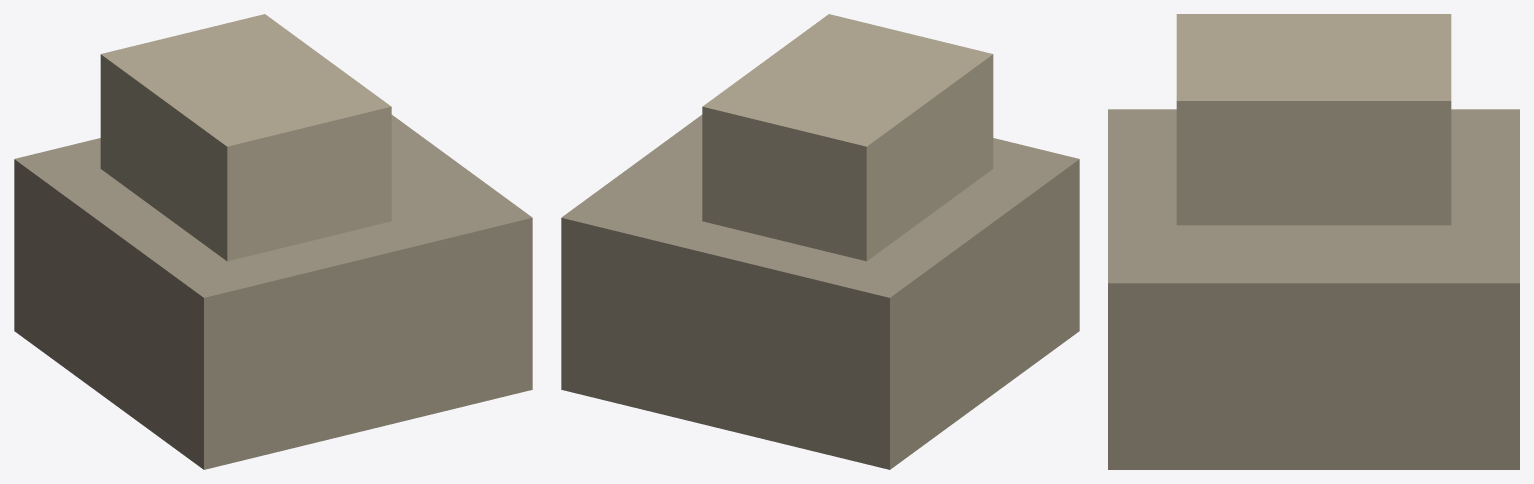
File: gran_taller_mamposteria_01.glb
3 renders of one model, left to right at view 1: azimuth 30°, elevation 25°; view 2: azimuth 150°, elevation 25°; view 3: azimuth 270°, elevation 25°, orthographic. The views are drawn at different scales.
Visible parts, largest first — view 1: gran_taller_mamposteria; view 2: gran_taller_mamposteria; view 3: gran_taller_mamposteria.
Part boxes in pixels (x1,y1,x2,y2): gran_taller_mamposteria: [14, 14, 532, 469]; gran_taller_mamposteria: [561, 14, 1079, 469]; gran_taller_mamposteria: [1108, 14, 1519, 469].
Size of the model in its own units: 0.6 by 0.5 by 0.6.
